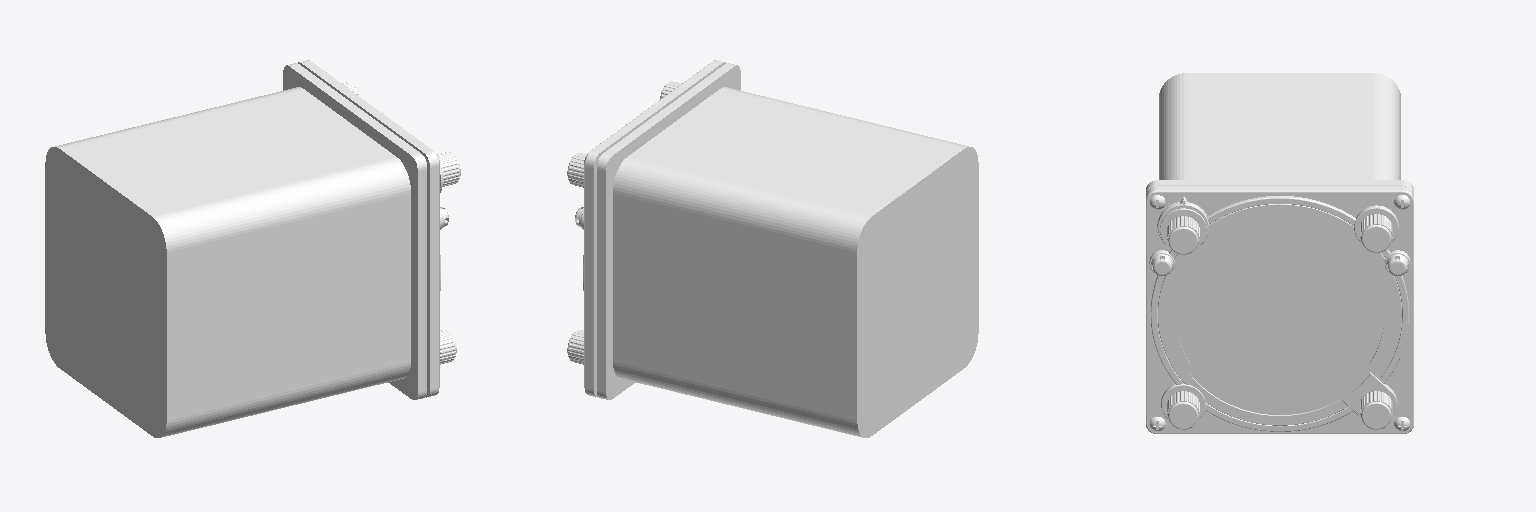
3 views of the same model, side by side, from view 1: azimuth 30°, elevation 25°; view 2: azimuth 150°, elevation 25°; view 3: azimuth 270°, elevation 25° (orthographic).
Visible parts, largest first — view 1: cover (Meshed), back_frontal (Meshed), frontal (Meshed), knob_001 (Meshed); view 2: cover (Meshed), back_frontal (Meshed), frontal (Meshed); view 3: glass (Meshed), frontal (Meshed), cover (Meshed), back_frontal (Meshed), knob_004 (Meshed), knob_002 (Meshed), knob_001 (Meshed), knob_003 (Meshed), screews_01 (Meshed), knob_001_A (Meshed).
Boxes of the visible parts, <box> form: cover (Meshed): <box>45,87,410,437</box>; back_frontal (Meshed): <box>283,63,426,399</box>; frontal (Meshed): <box>298,60,442,397</box>; knob_001 (Meshed): <box>437,152,460,186</box>; cover (Meshed): <box>613,87,978,437</box>; back_frontal (Meshed): <box>597,63,740,399</box>; frontal (Meshed): <box>581,60,725,397</box>; glass (Meshed): <box>1175,216,1384,414</box>; frontal (Meshed): <box>1146,186,1413,433</box>; cover (Meshed): <box>1159,73,1400,179</box>; back_frontal (Meshed): <box>1146,180,1413,192</box>; knob_004 (Meshed): <box>1167,391,1199,429</box>; knob_002 (Meshed): <box>1360,214,1392,252</box>; knob_001 (Meshed): <box>1167,216,1199,254</box>; knob_003 (Meshed): <box>1360,391,1392,429</box>; screews_01 (Meshed): <box>1149,195,1410,431</box>; knob_001_A (Meshed): <box>1160,208,1206,246</box>.
Bounding box in the file's own units: 0.1472 × 0.1143 × 0.1143.
Materials: 10 (8 with a texture image).